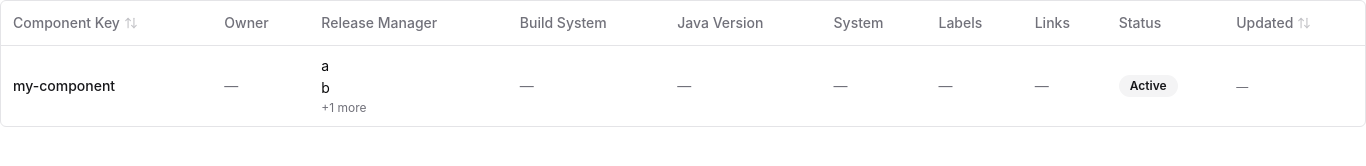
Test: ComponentTable › Release Manager column › shows the toggle with exactly one manager past the visible limit (3 values)
Click the button with aria-label "show all 3 release managers".
click(408, 108)  # box [321,100,496,116]
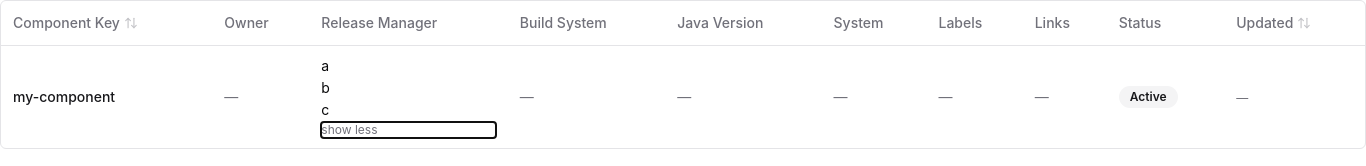
Now the text "c" is shown, box [321,100,329,118]
